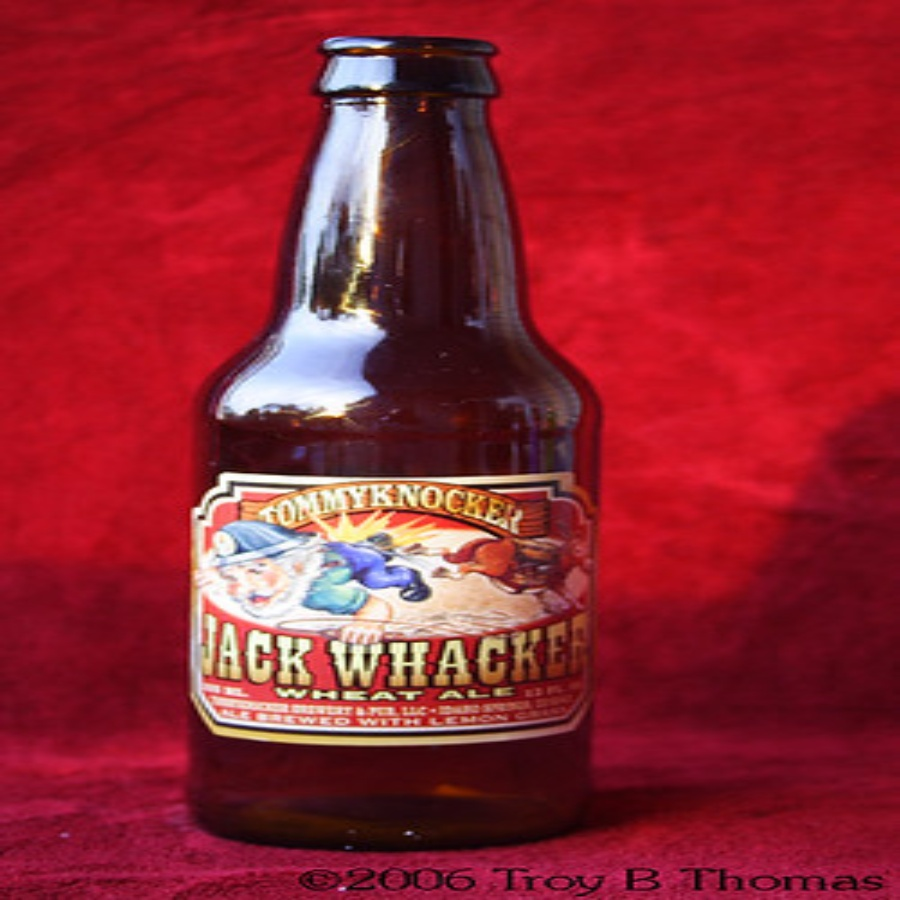beer: (198, 14, 601, 859)
